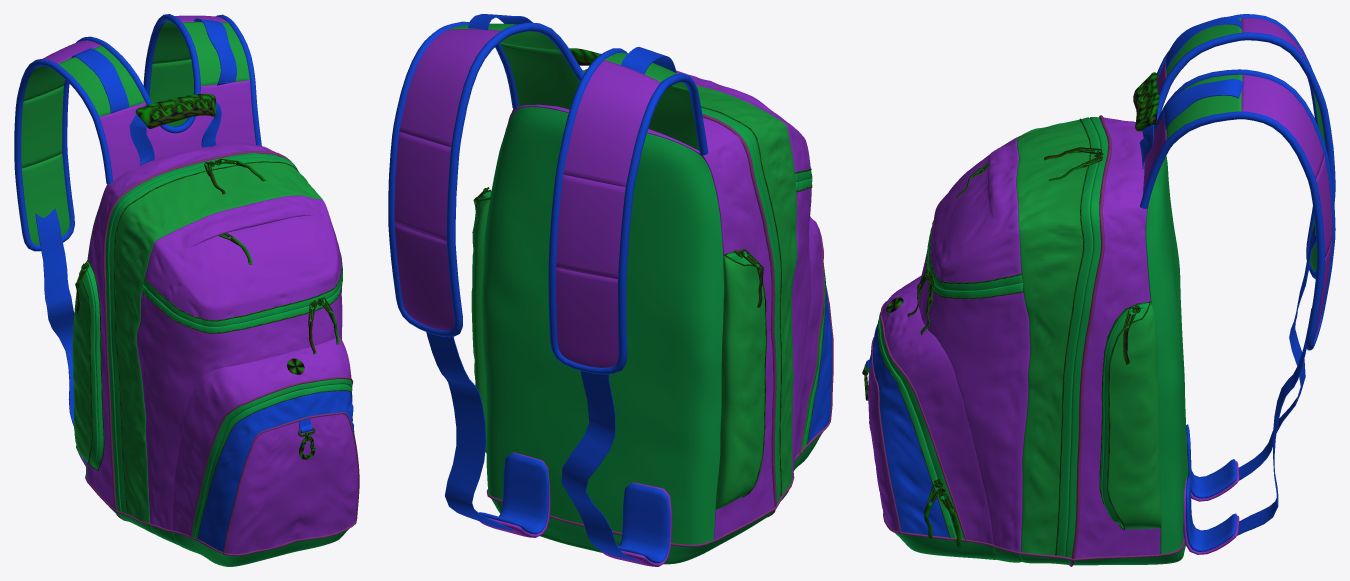
Rendered from school-backpack-vray.fbx.
3 renders of one model, left to right at view 1: azimuth 30°, elevation 25°; view 2: azimuth 150°, elevation 25°; view 3: azimuth 270°, elevation 25°, orthographic. The views are drawn at different scales.
Visible parts, largest first — view 1: arch49_014_obj_01, arch49_014_obj_02, arch49_014_obj_04, arch49_014_obj_03, arch49_014_obj_05, arch49_014_obj_00; view 2: arch49_014_obj_03, arch49_014_obj_01, arch49_014_obj_04, arch49_014_obj_02, arch49_014_obj_00, arch49_014_obj_05; view 3: arch49_014_obj_01, arch49_014_obj_02, arch49_014_obj_03, arch49_014_obj_04, arch49_014_obj_05, arch49_014_obj_00.
Boxes of the visible parts, x1,y1,x2,y2 form: arch49_014_obj_01: (42,15,358,553); arch49_014_obj_02: (21,21,322,523); arch49_014_obj_04: (14,14,354,551); arch49_014_obj_03: (82,153,352,566); arch49_014_obj_05: (75,93,352,538); arch49_014_obj_00: (85,151,359,555); arch49_014_obj_03: (479,107,825,564); arch49_014_obj_01: (394,29,822,566); arch49_014_obj_04: (388,14,832,563); arch49_014_obj_02: (447,23,797,509); arch49_014_obj_00: (486,109,833,546); arch49_014_obj_05: (473,48,825,497); arch49_014_obj_01: (867,18,1332,558); arch49_014_obj_02: (1016,18,1325,555); arch49_014_obj_03: (878,117,1188,565); arch49_014_obj_04: (866,14,1335,551); arch49_014_obj_05: (862,72,1159,555); arch49_014_obj_00: (871,115,1184,566).
Size of what is drawn, in the model's own units: 6.31 by 11.2 by 9.91.
